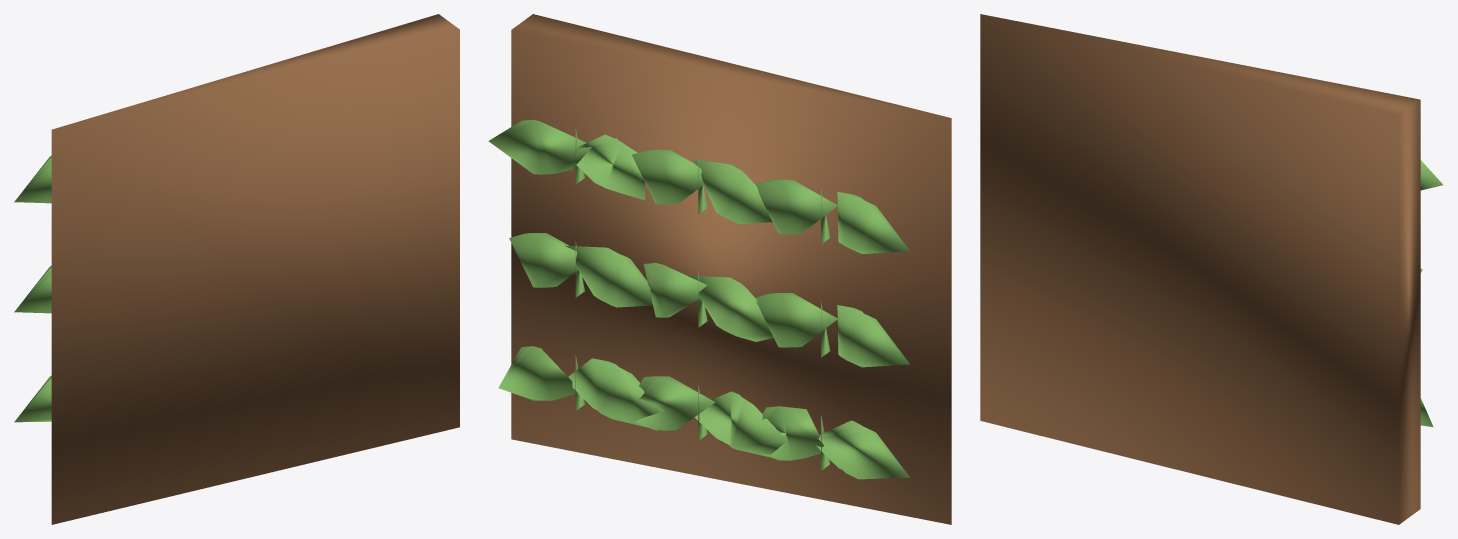
File: tomato_sprout.glb
The picture shows the model from 3 angles, left to right: view 1: azimuth 30°, elevation 25°; view 2: azimuth 150°, elevation 25°; view 3: azimuth 330°, elevation 25°; orthographic projection. The views are drawn at different scales.
Parts seen in each view (by area): view 1: Soil, Leaf.002, Leaf.004, Leaf; view 2: Soil, Leaf.012, Leaf.017, Leaf.006, Leaf.014, Leaf, Leaf.008, Leaf.010, Leaf.002, Leaf.004, Leaf.003, Leaf.005 (+7 smaller); view 3: Soil.
Boxes of the visible parts, bbox=[...] form: Soil: bbox=[51, 14, 459, 524]; Leaf.002: bbox=[14, 265, 51, 313]; Leaf.004: bbox=[14, 155, 51, 203]; Leaf: bbox=[14, 375, 51, 422]; Soil: bbox=[511, 14, 951, 524]; Leaf.012: bbox=[568, 358, 664, 426]; Leaf.017: bbox=[488, 120, 591, 174]; Leaf.006: bbox=[694, 391, 787, 456]; Leaf.014: bbox=[564, 245, 652, 307]; Leaf: bbox=[816, 420, 909, 479]; Leaf.008: bbox=[687, 275, 773, 341]; Leaf.010: bbox=[693, 159, 772, 224]; Leaf.002: bbox=[837, 305, 910, 367]; Leaf.004: bbox=[837, 191, 909, 253]; Leaf.003: bbox=[755, 293, 837, 347]; Leaf.005: bbox=[755, 179, 837, 234]; Soil: bbox=[980, 14, 1420, 524].
Size of the model in its own units: 1.17 by 1.08 by 0.2044.
